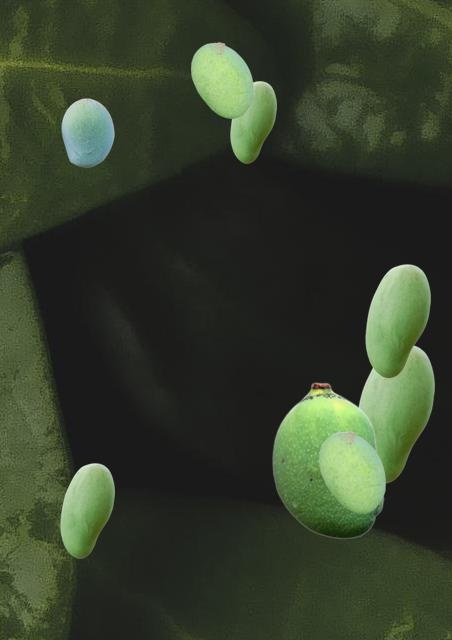green_mango: (272, 382, 383, 538), (358, 345, 433, 482), (365, 264, 429, 377), (319, 431, 384, 512), (60, 463, 113, 557), (191, 42, 252, 117), (230, 81, 275, 162), (61, 98, 113, 166)
